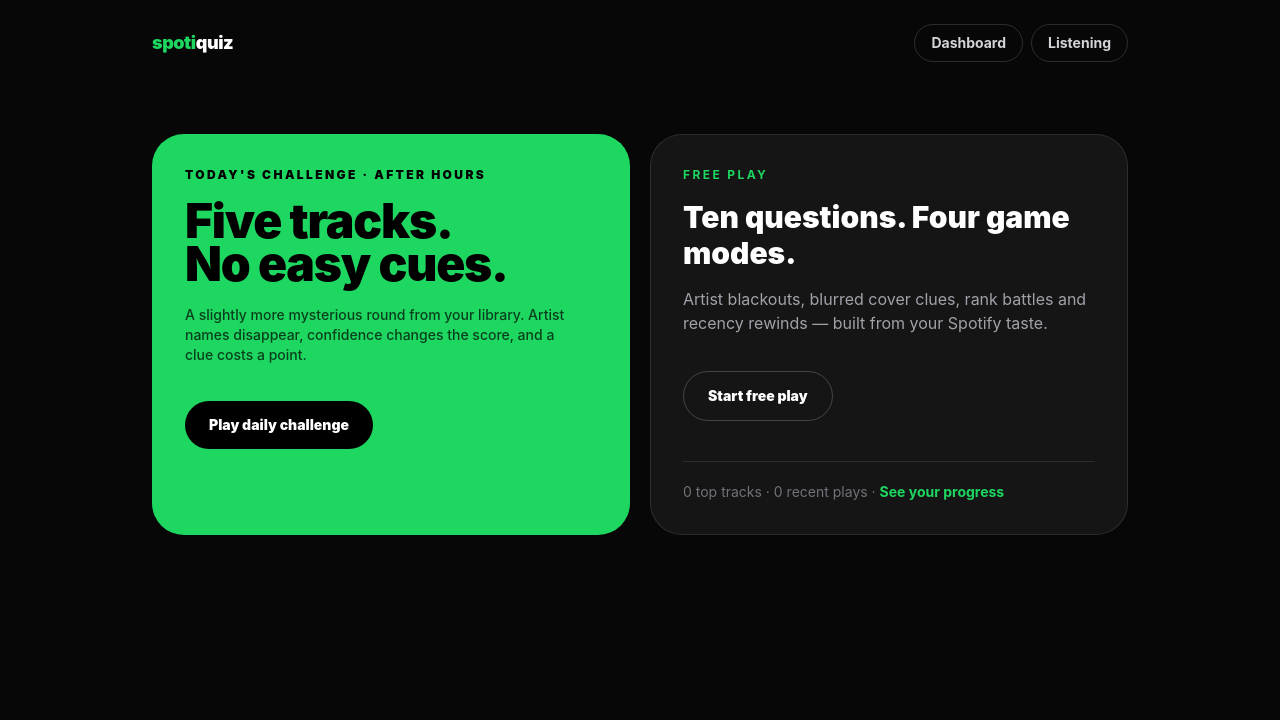
Scenario: QuizComponent › takes an answer through to a saved completed daily round
The width and height of the screenshot is (1280, 720).
Step 1. Click the button "Play daily challenge" → x=279, y=425, box [185,401,373,449]
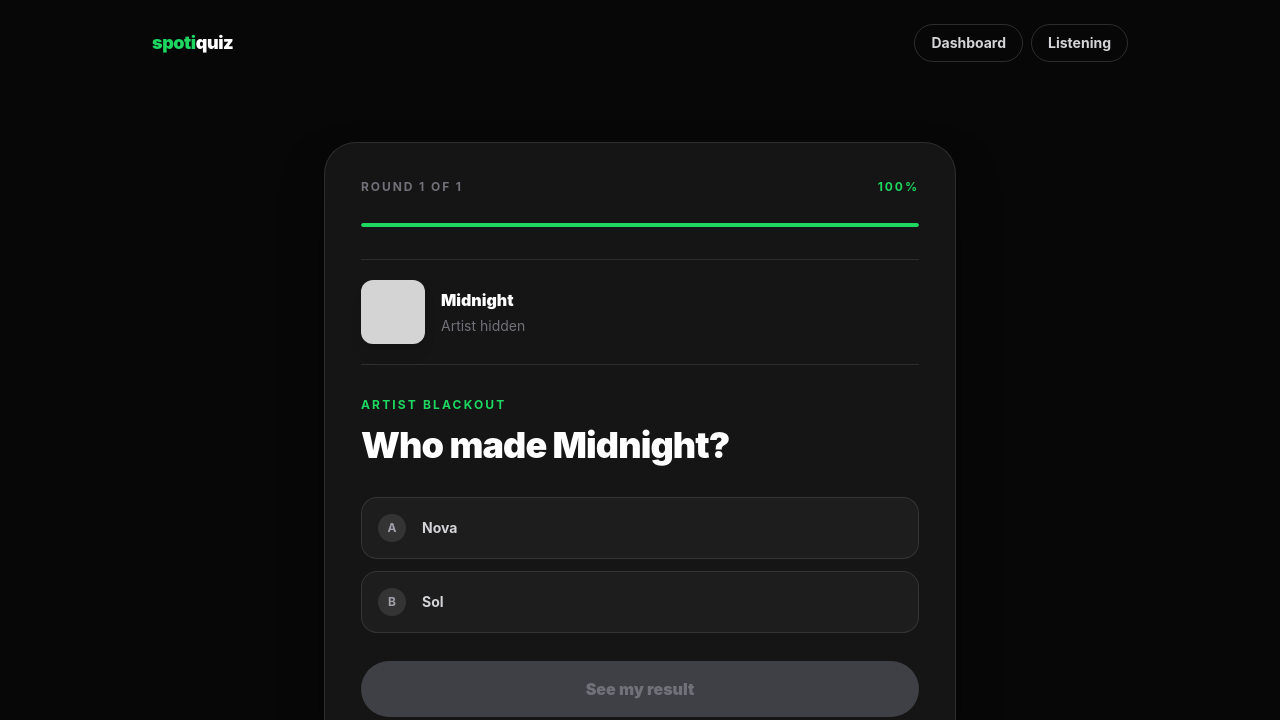
Step 2. Click the button "A Nova" → x=440, y=528, box [361,497,919,559]
(page scrolled)
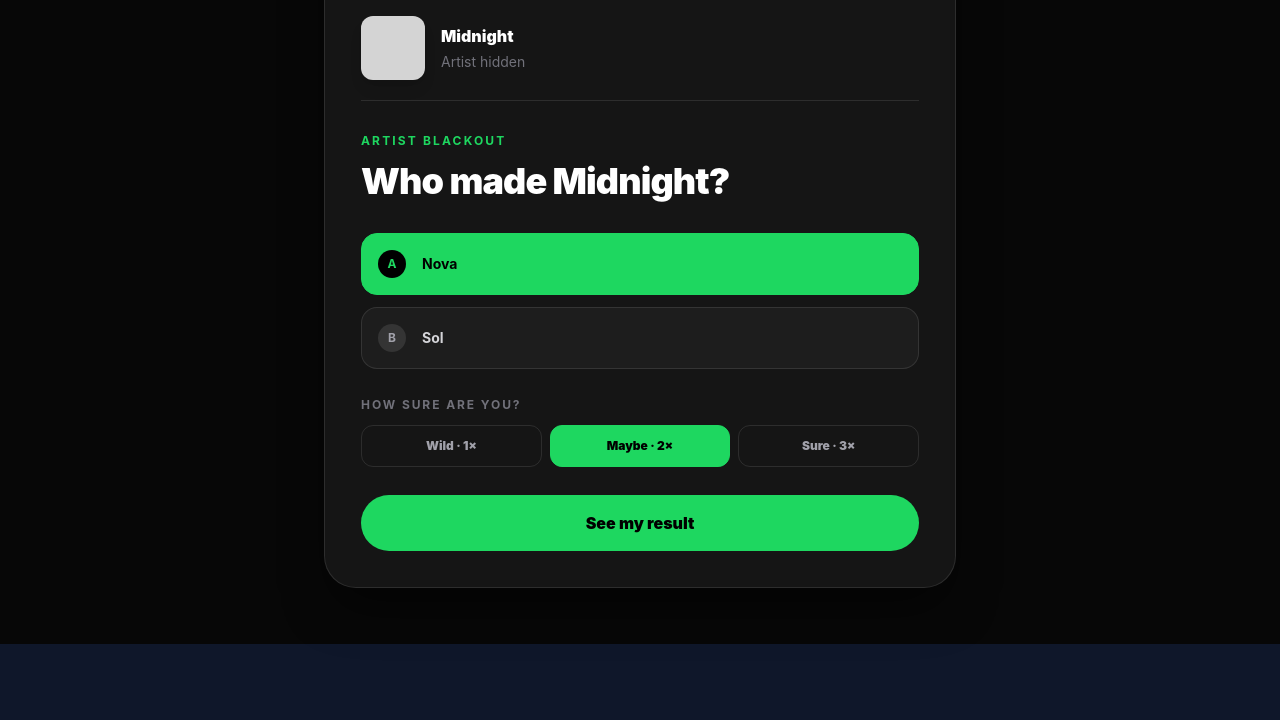
Step 3. Click the button "See my result" → x=640, y=523, box [361,495,919,551]
(page scrolled)
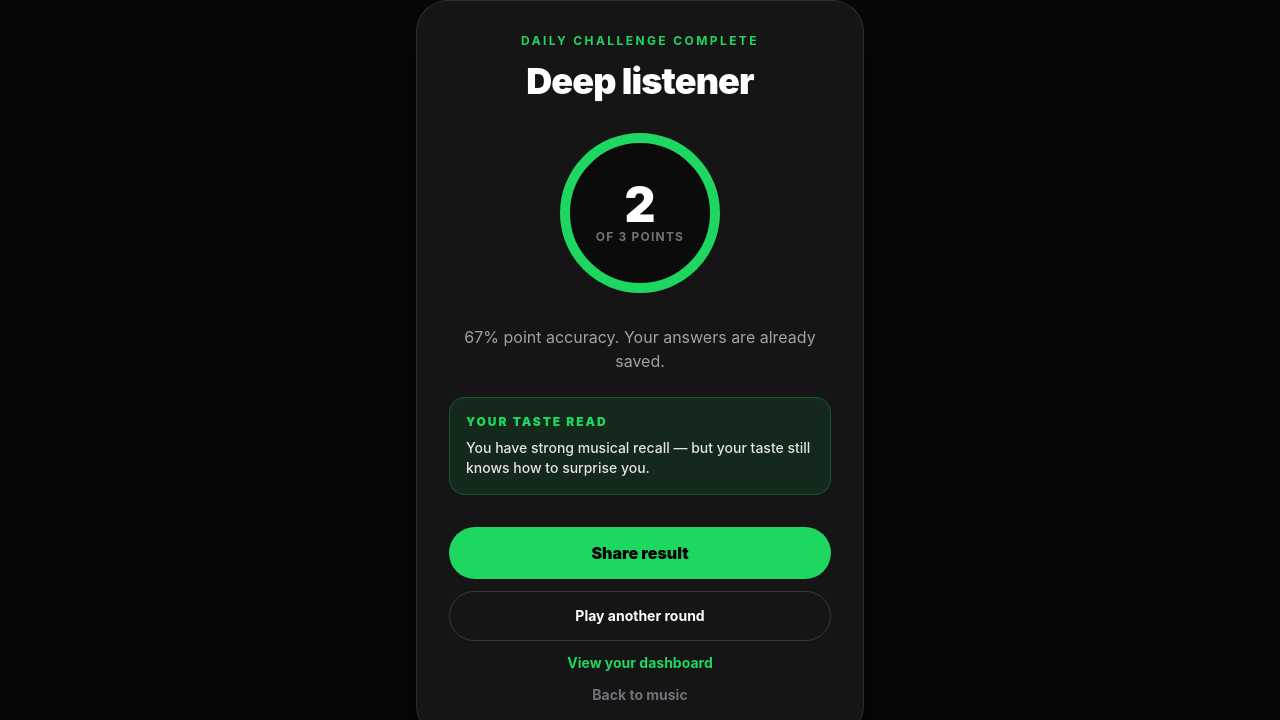
Expected: the heading "Deep listener" is shown, [526,59,754,103]
